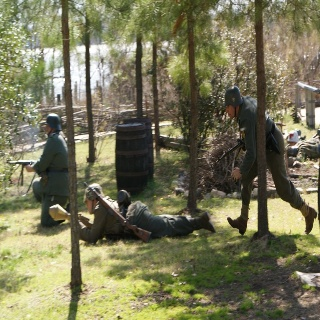rifle: (83, 180, 155, 244)
